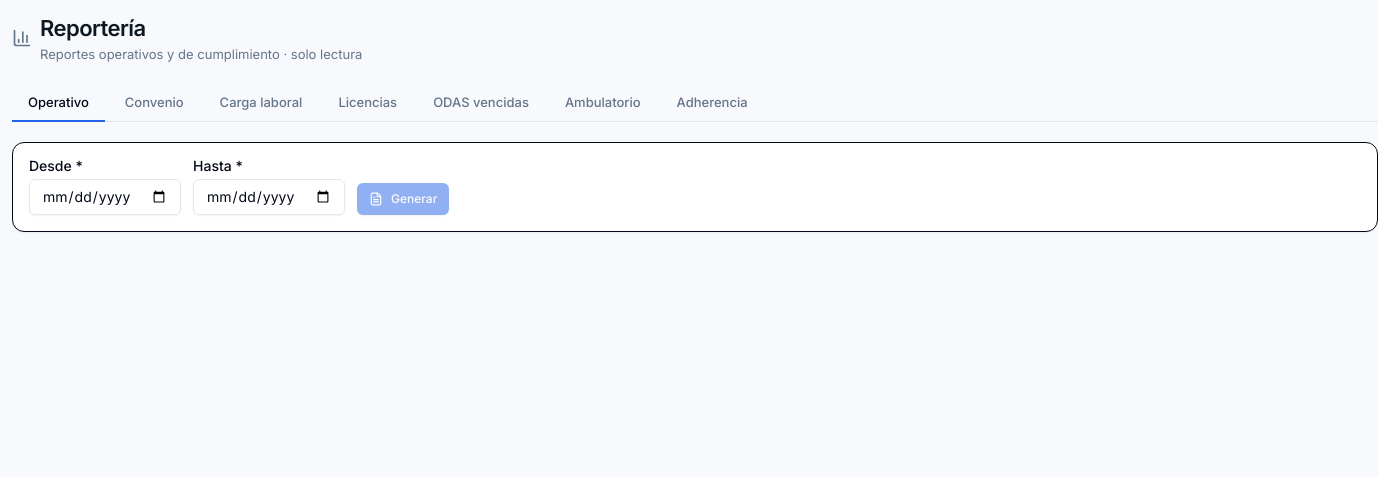
Test: ReportesPage — ODA por paciente (QA-006) › envía el filtro de estado del caso
Click the button with test id "tab-odas".
click(481, 103)  # box [417, 84, 545, 122]
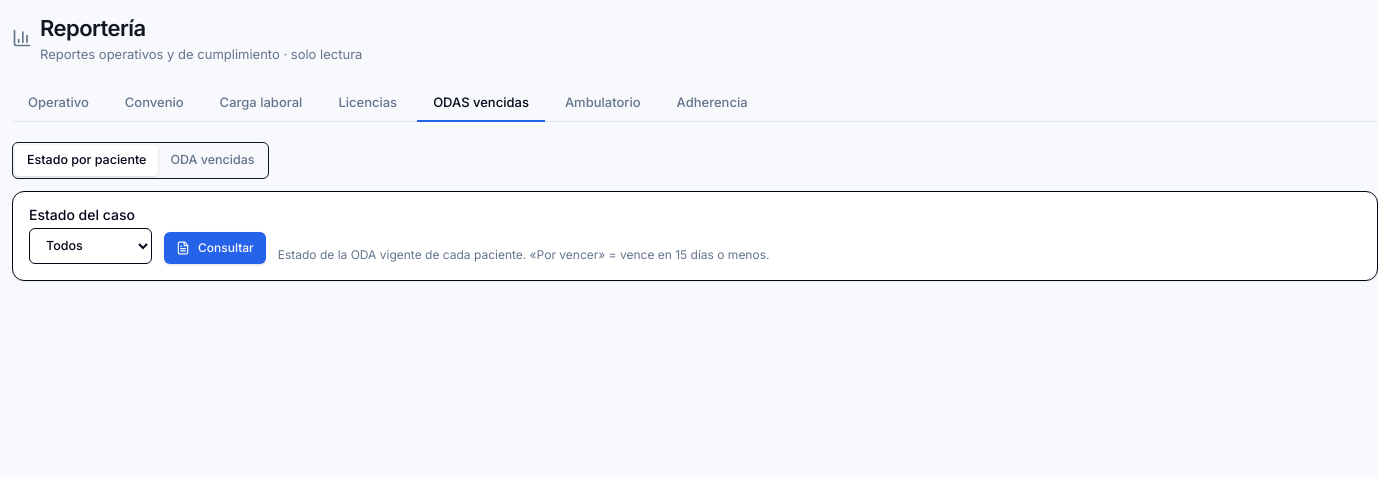
Select "Cerrado" in the dropdown with test id "filtro-estado-caso" at (90, 246), box [29, 228, 152, 264]
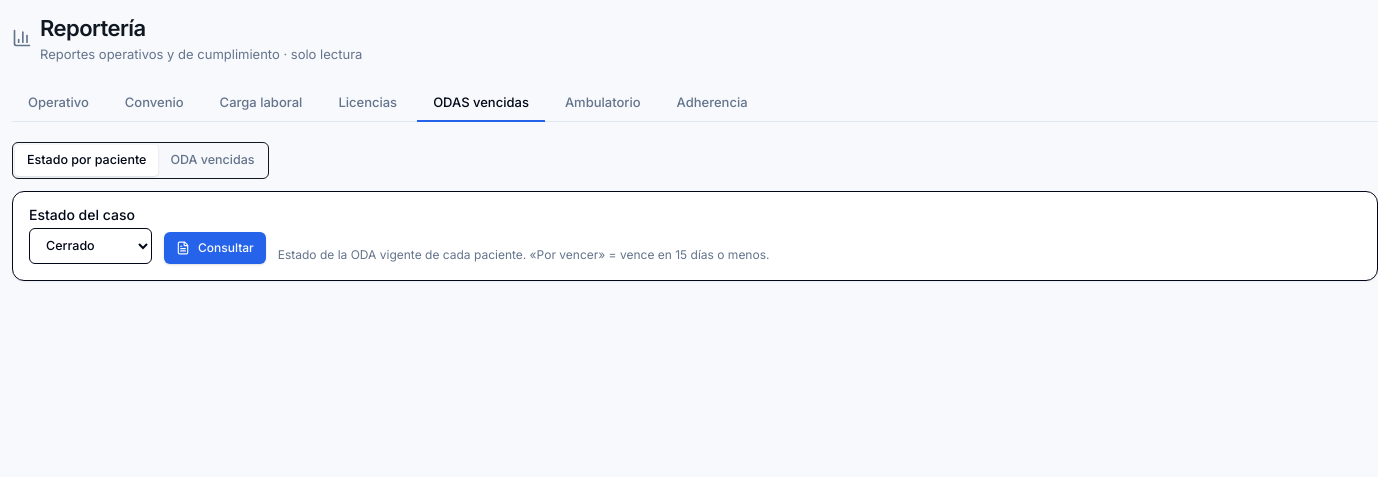
Click the button with test id "btn-generar-reporte".
click(215, 248)  # box [164, 232, 266, 264]
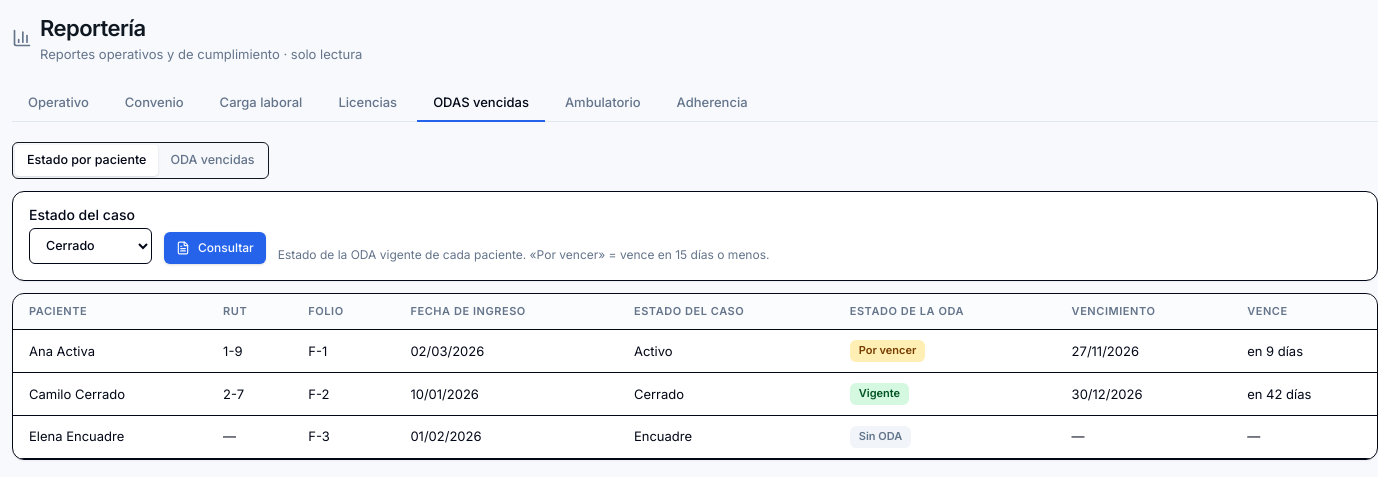
Expected: the text "Ana Activa" is shown, [13, 330, 207, 373]
